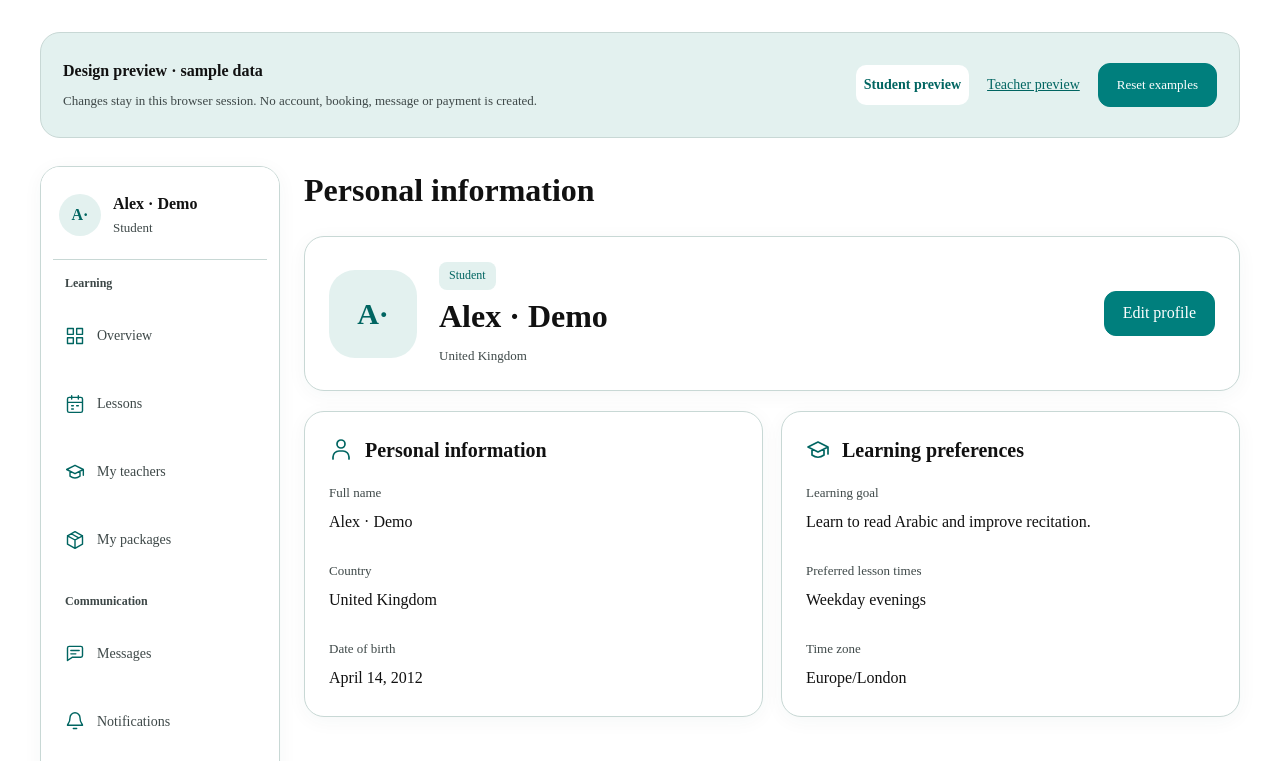
Test case: Connected account screens › saves a student profile locally and resets forms together with the examples
Click the button "Edit profile". click: [1159, 314]
box: [1104,291,1215,336]
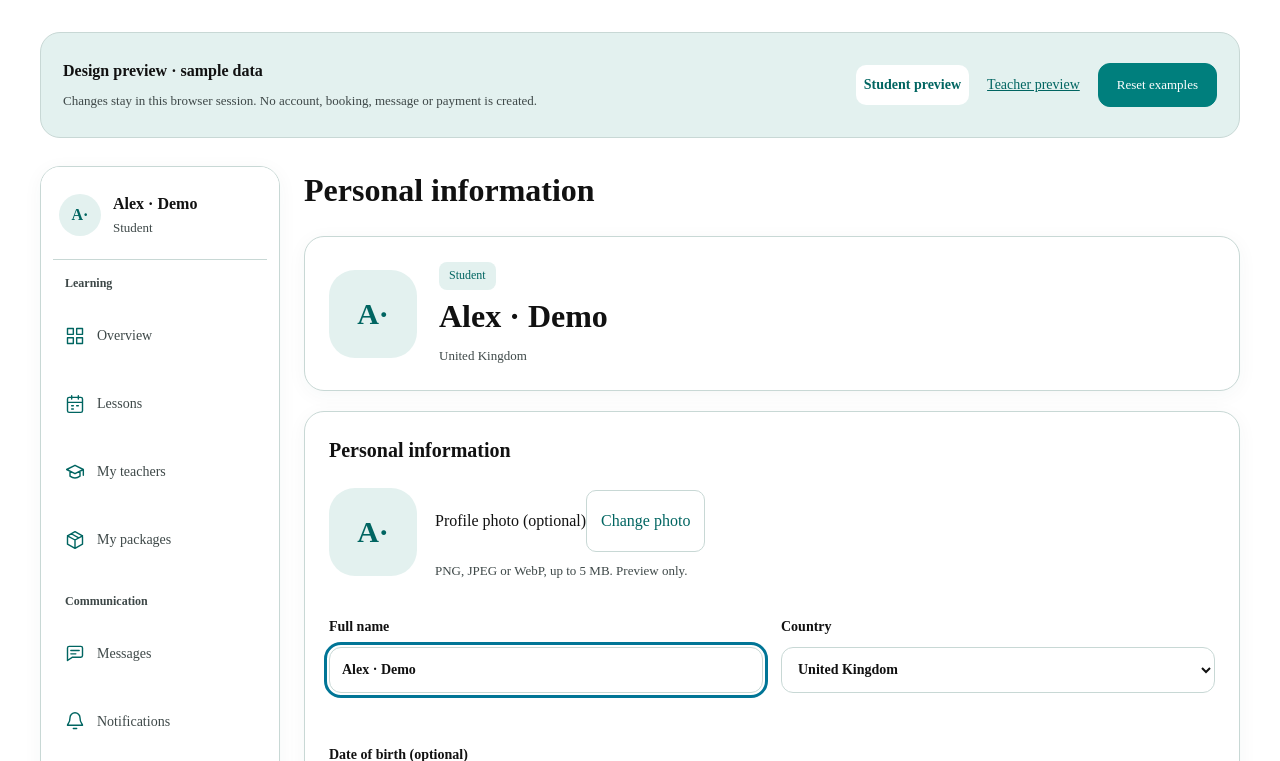
Replace the text in the field labelled "Full name" with "Taylor demo". click: [546, 670]
box: [329,647,763,693]
(page scrolled)
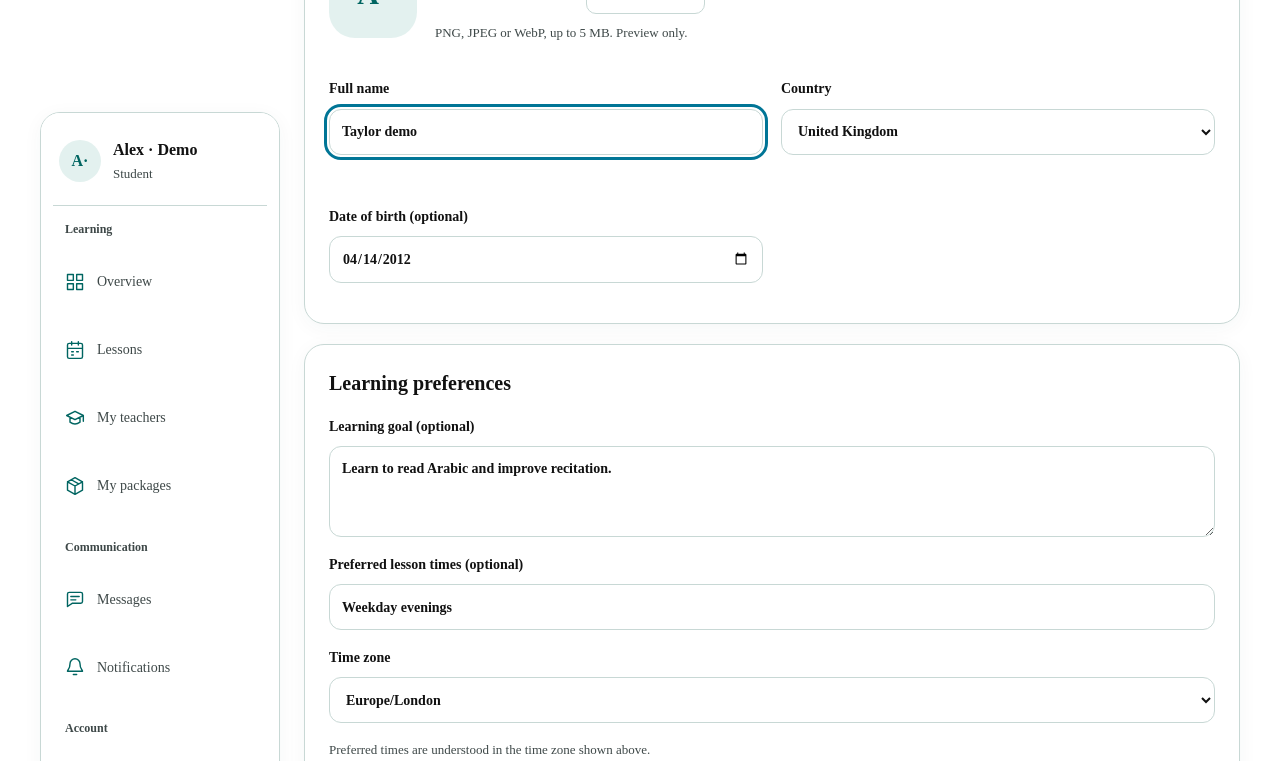
Submit the form named "Full name"
(page scrolled)
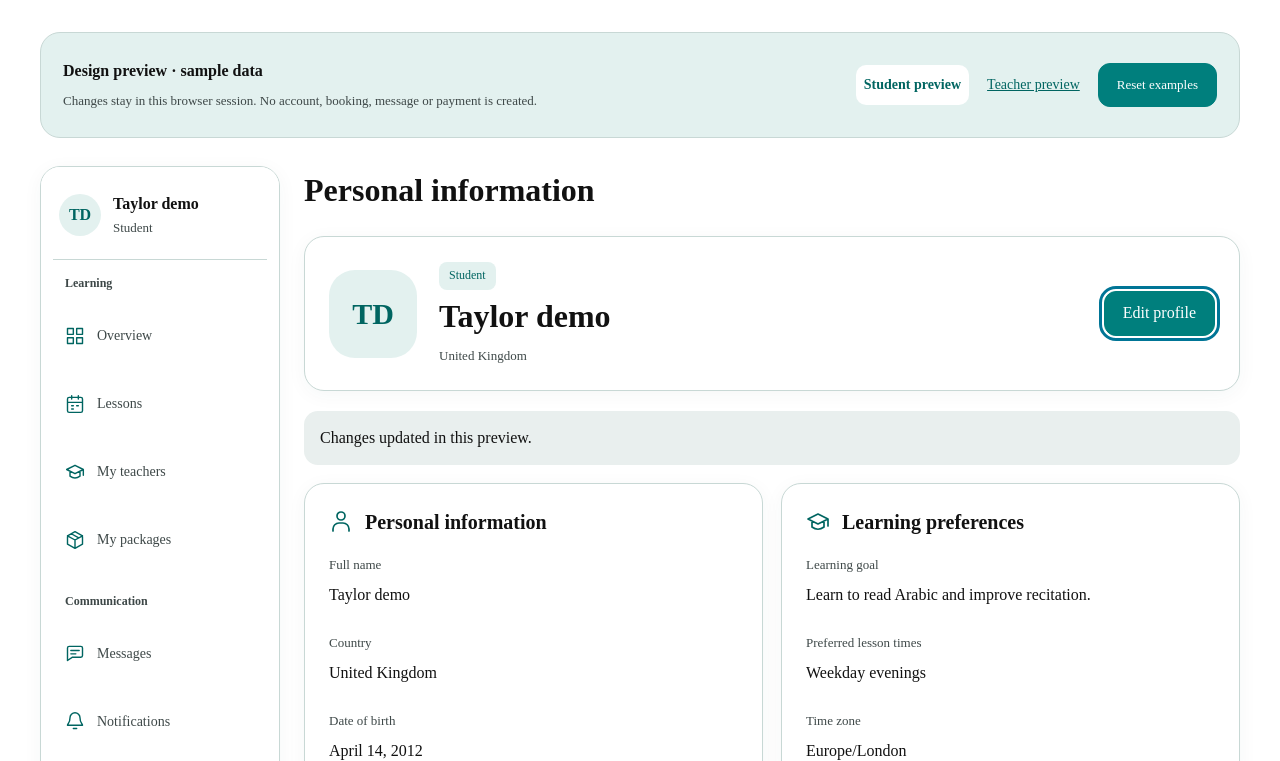
Now the message shows "updated", box [320,429,532,446]
Now the 1st text "Taylor demo" is shown, box [113,195,199,212]
Click the button "Reset examples". click: [1157, 85]
box: [1098,63,1217,107]
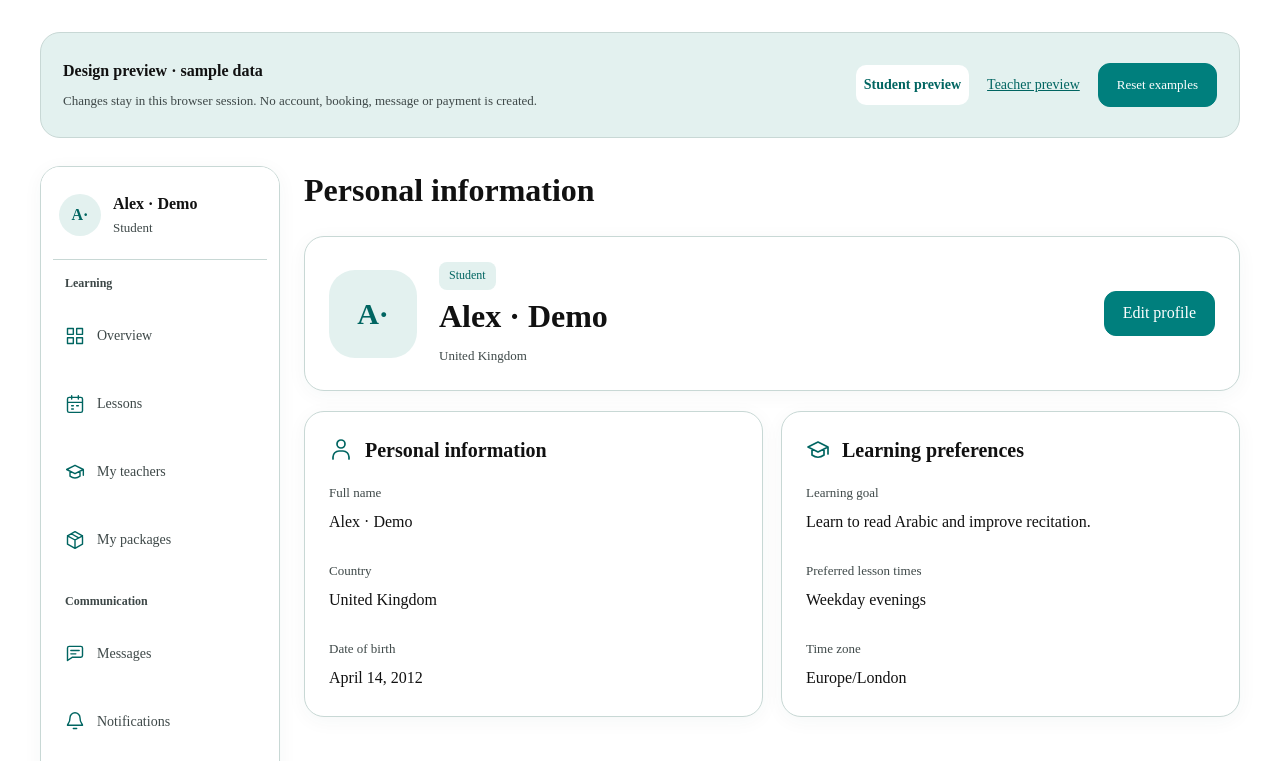
Click the button "Edit profile". click: [1159, 314]
box: [1104,291,1215,336]
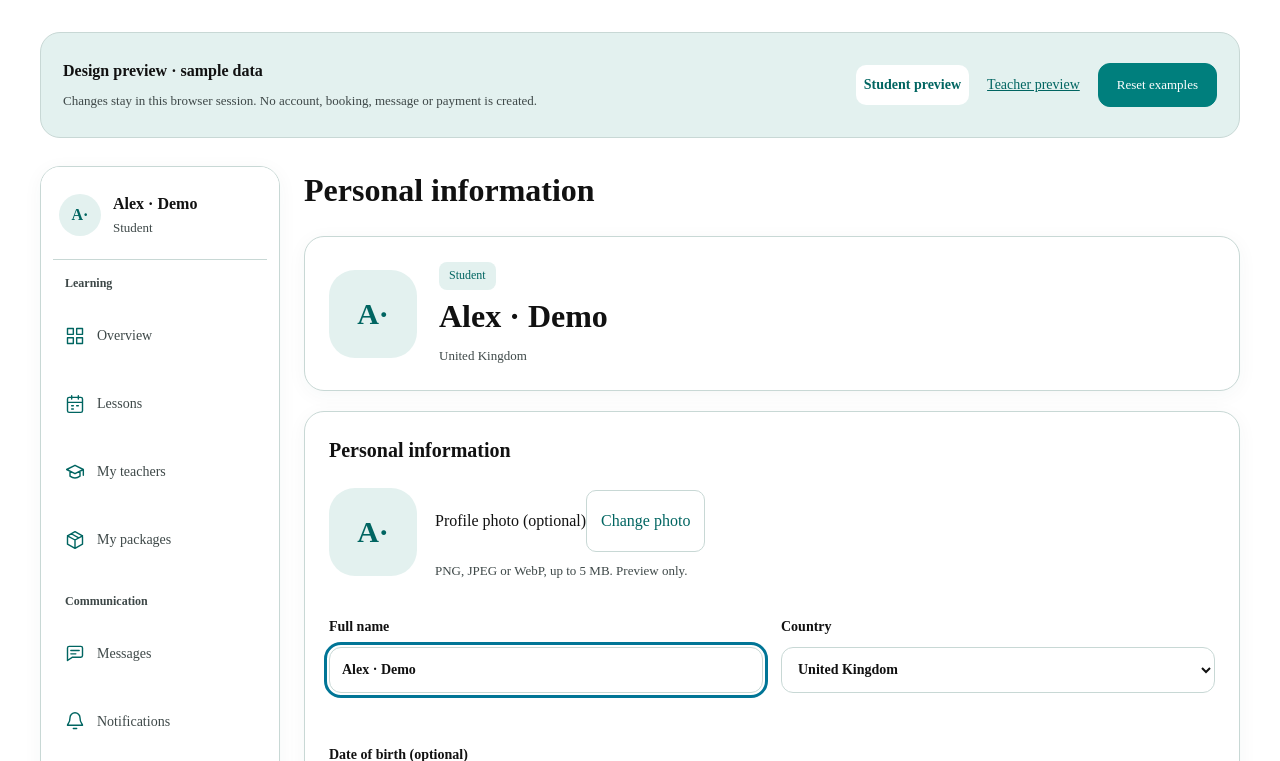
Expected: the message "Changes updated in this preview." is not shown
Now the field labelled "Full name" holds "Alex · Demo", box [329,647,763,693]
